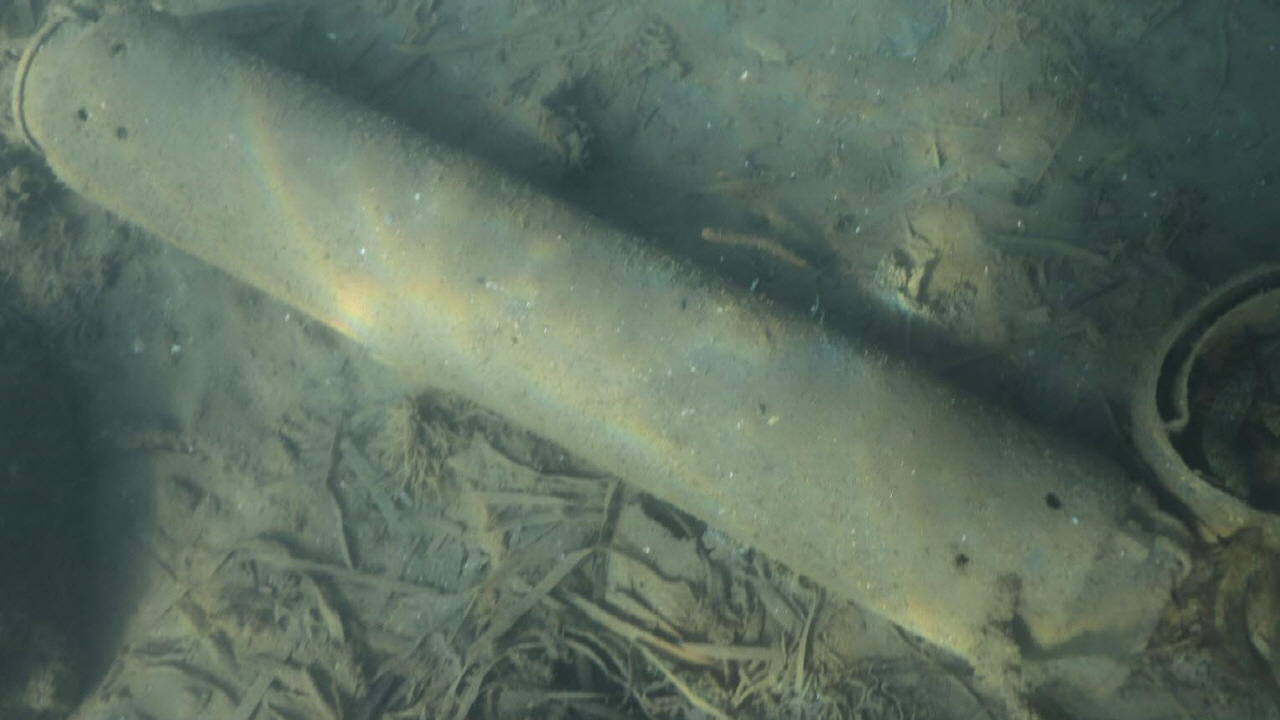eel fish trap: (9, 7, 1189, 705)
